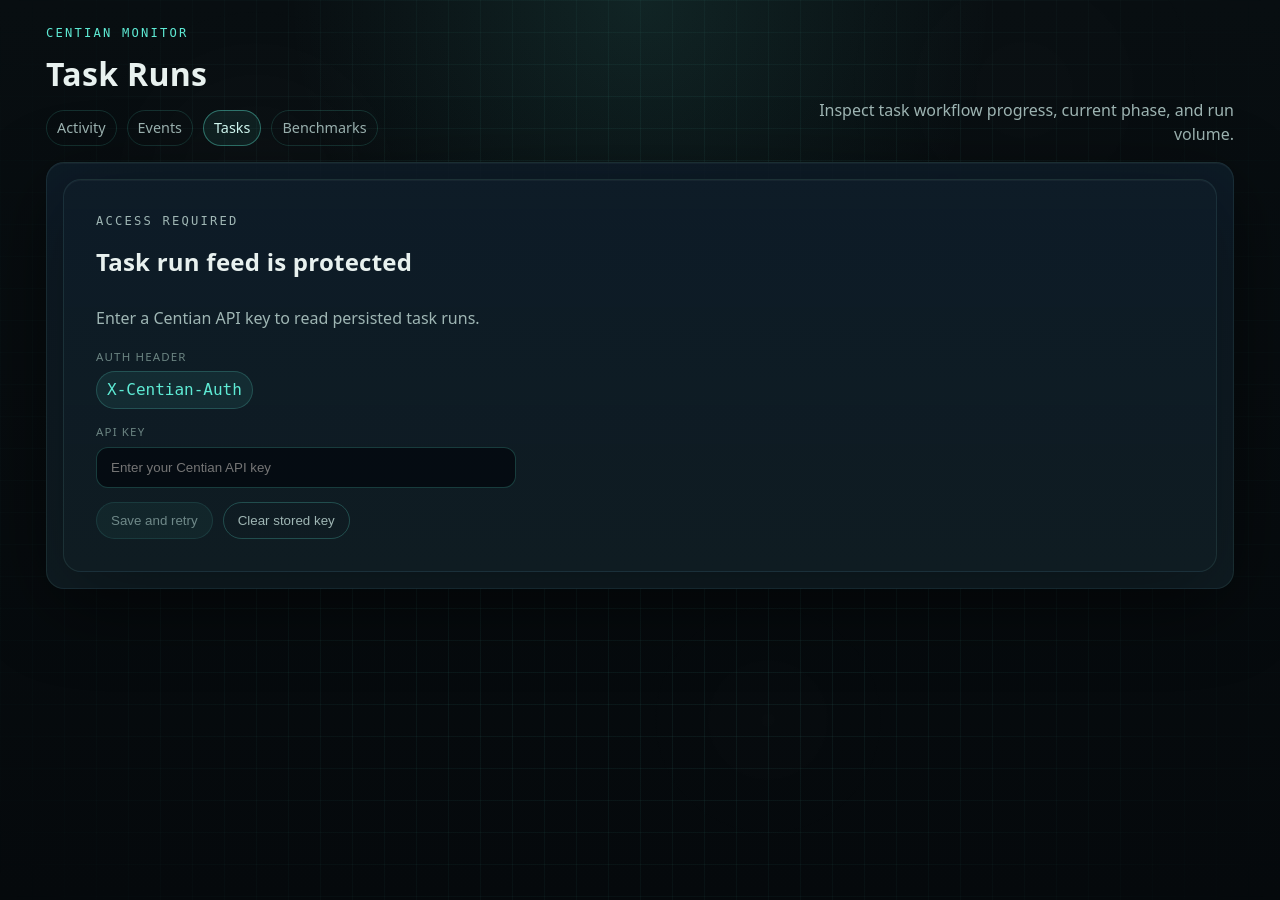
Test case: task run list › prompts for an api key on unauthorized list access and retries with the stored header
expect the heading "Task run feed is protected" is shown: met, box [96,245,412,278]
Type "plain-key" into the password field labelled "API key" at (306, 467), box [96,447,516,488]
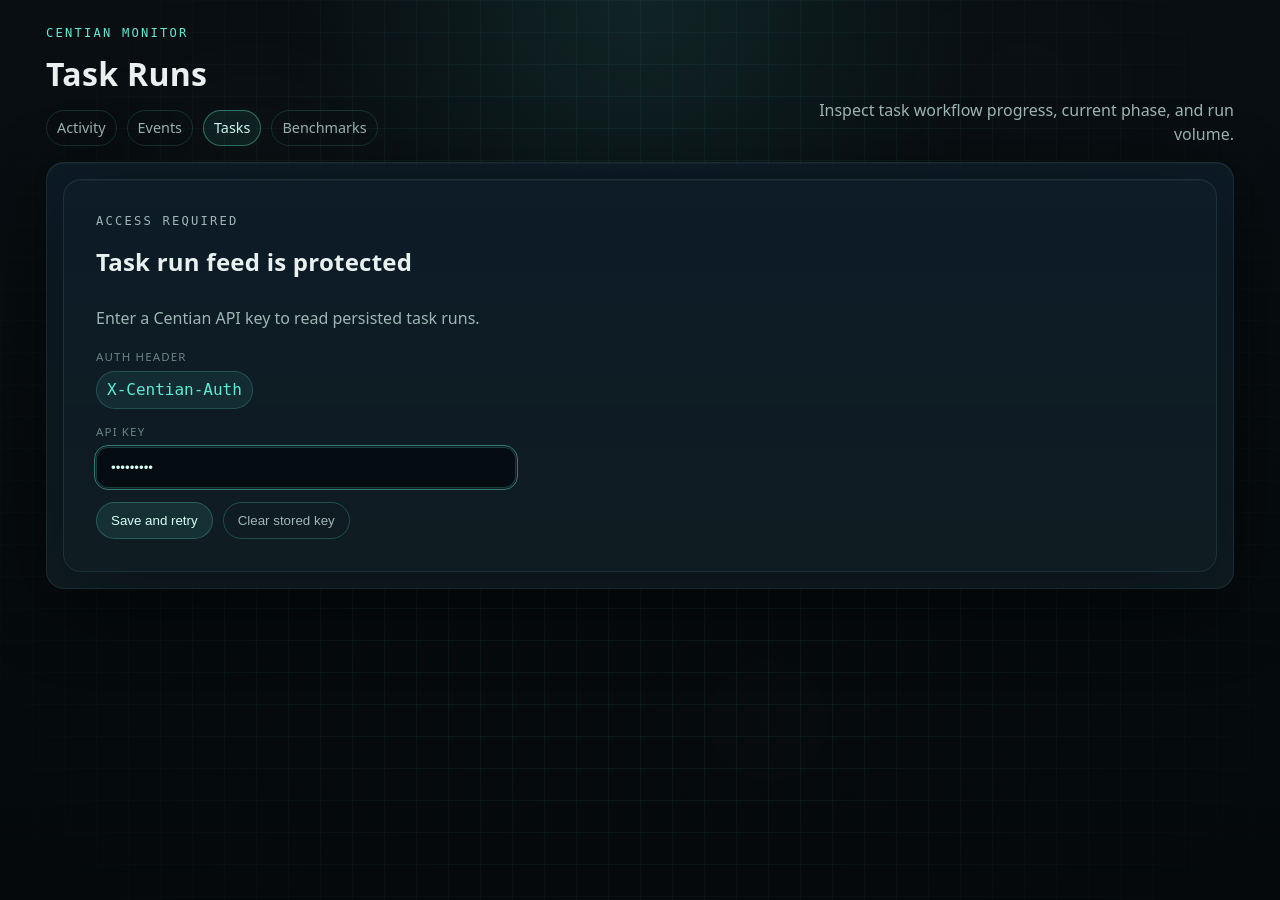
Click the button "Save and retry" at (154, 520), box [96,502,213,539]
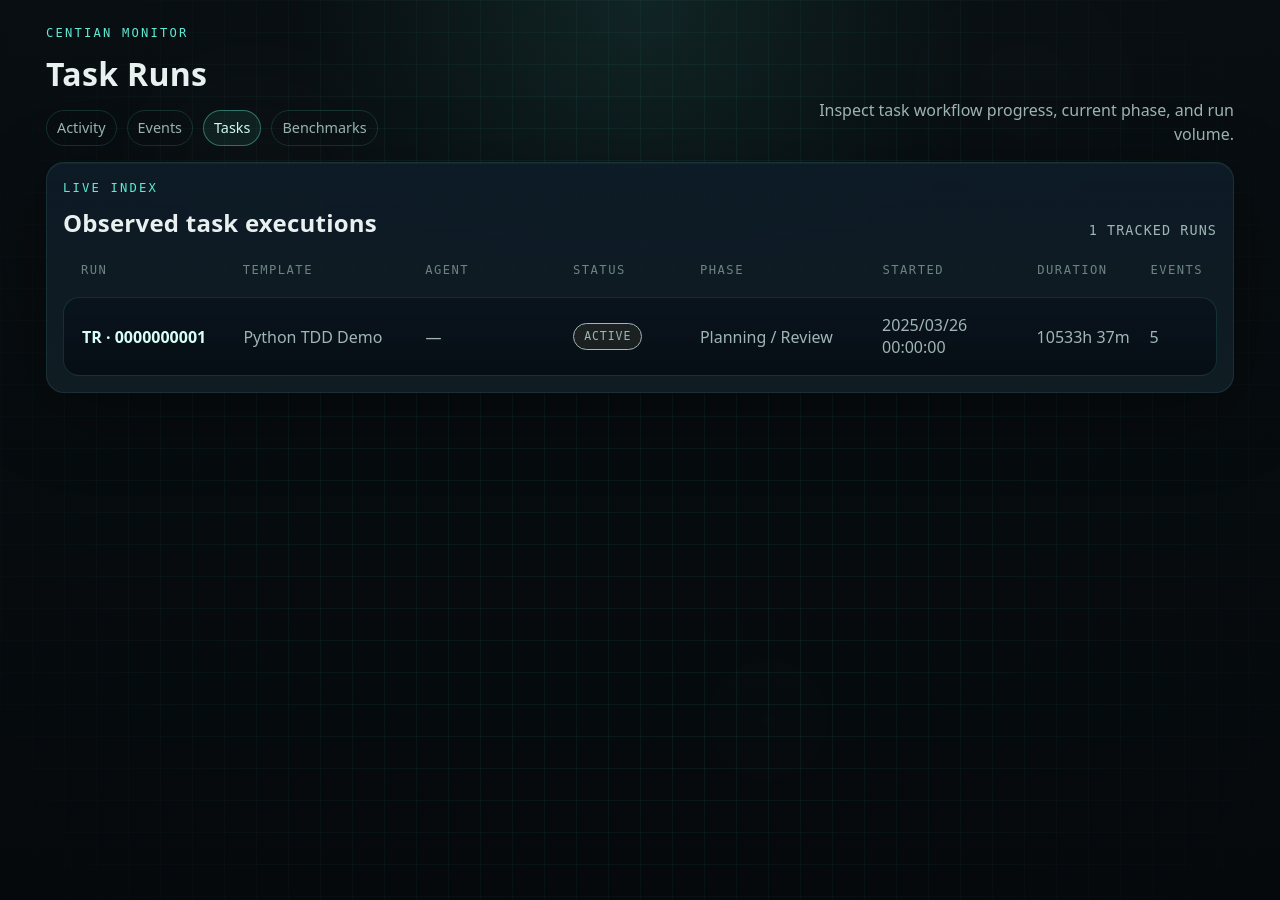
expect the text "Python TDD Demo" is shown: met, box [243,326,382,348]
